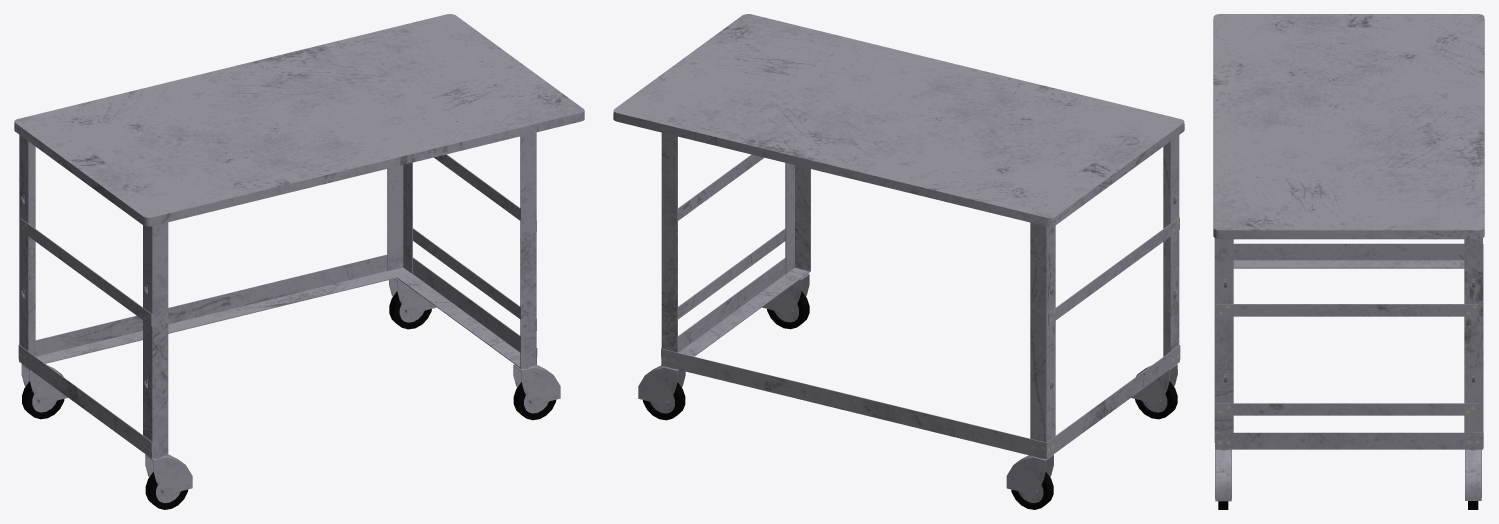
File: Table1.fbx
The picture shows the model from 3 angles, left to right: view 1: azimuth 30°, elevation 25°; view 2: azimuth 150°, elevation 25°; view 3: azimuth 270°, elevation 25°; orthographic projection.
Visible parts, largest first — view 1: Box005, Weel_1, Weel_004, Weel_003, Weel_002; view 2: Box005, Weel_003, Weel_002, Weel_1, Weel_004; view 3: Box005, Weel_1, Weel_002.
Part boxes in pixels (x1=…): Box005: x1=14, y1=14, x2=584, y2=458; Weel_1: x1=513, y1=364, x2=560, y2=420; Weel_004: x1=145, y1=454, x2=192, y2=509; Weel_003: x1=21, y1=364, x2=67, y2=419; Weel_002: x1=389, y1=278, x2=436, y2=329; Box005: x1=613, y1=14, x2=1184, y2=459; Weel_003: x1=1006, y1=454, x2=1053, y2=509; Weel_002: x1=638, y1=365, x2=685, y2=420; Weel_1: x1=762, y1=273, x2=809, y2=329; Weel_004: x1=1131, y1=364, x2=1177, y2=419; Box005: x1=1213, y1=14, x2=1484, y2=450; Weel_1: x1=1215, y1=449, x2=1231, y2=509; Weel_002: x1=1465, y1=449, x2=1481, y2=509.
Bounding box in the file's own units: 115 × 74.29 × 60.78.
